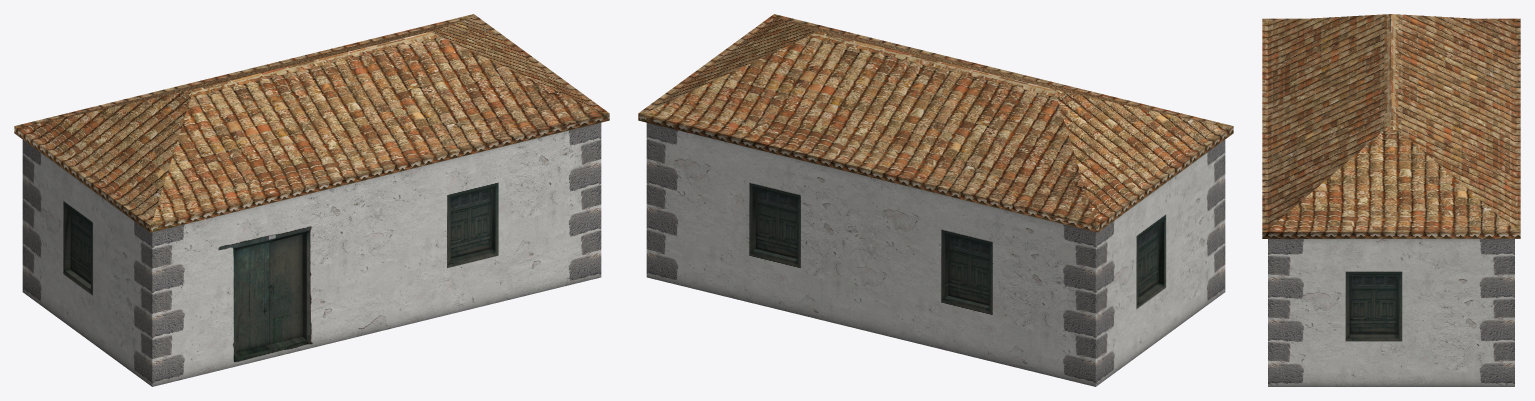
Rendered from casa1.fbx.
The picture shows the model from 3 angles, left to right: view 1: azimuth 30°, elevation 25°; view 2: azimuth 150°, elevation 25°; view 3: azimuth 270°, elevation 25°; orthographic projection. The views are drawn at different scales.
Parts seen in each view (by area): view 1: casa1; view 2: casa1; view 3: casa1.
Part boxes in pixels (left/top/right/bottom): casa1: left=14, top=14, right=609, bottom=386; casa1: left=638, top=14, right=1233, bottom=386; casa1: left=1262, top=14, right=1520, bottom=386.
Bounding box in the file's own units: 26.52 × 12.36 × 13.56.
